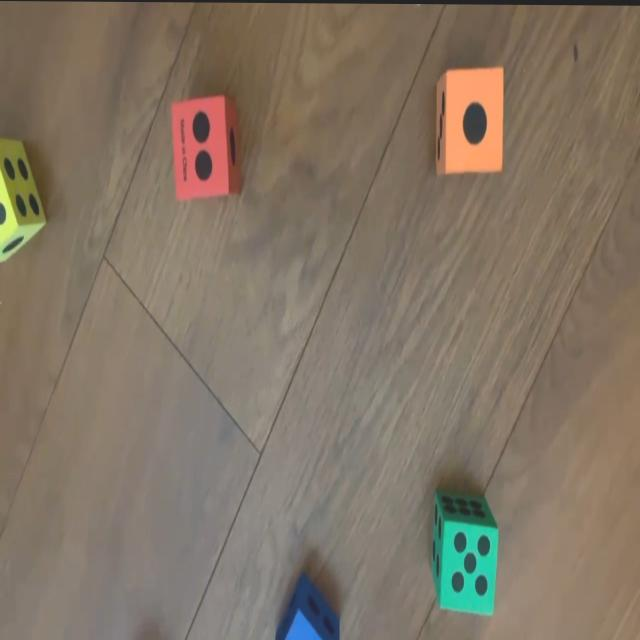cube: (429, 490, 499, 617), (172, 93, 239, 199), (275, 579, 339, 640)
